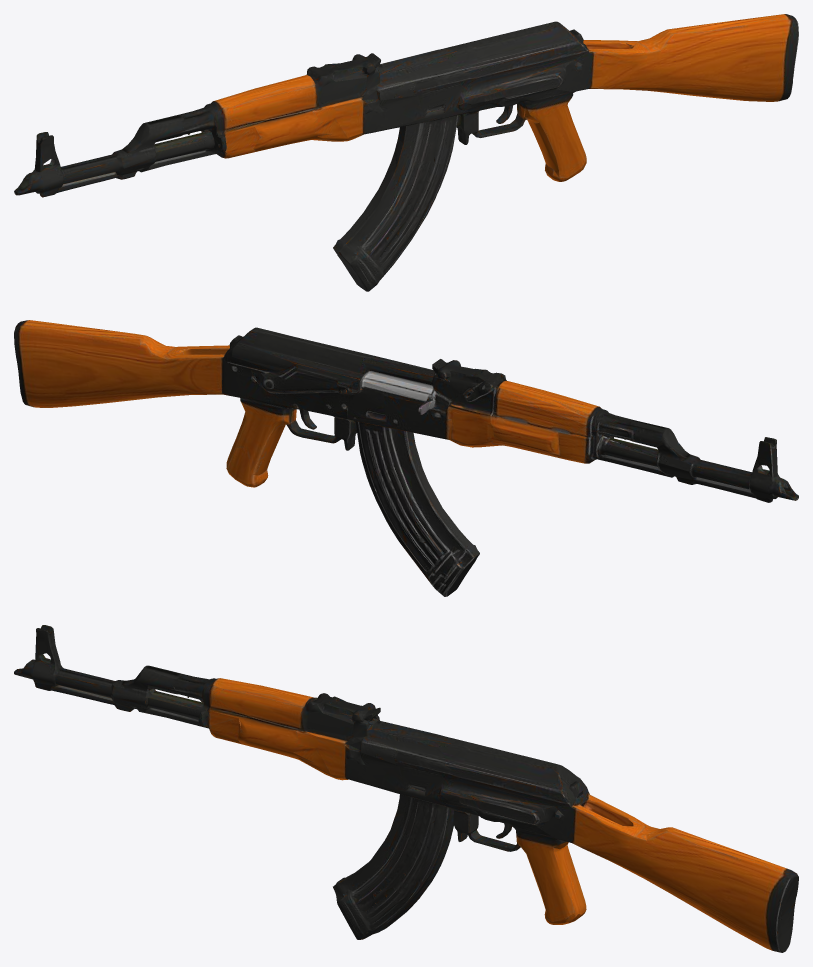
Rendered from w-akm.glb.
3 renders of one model, top to bottom at view 1: azimuth 30°, elevation 25°; view 2: azimuth 150°, elevation 25°; view 3: azimuth 330°, elevation 25°, orthographic.
Size of the model in its own units: 1.9 by 0.5414 by 0.1396.
Materials: 1 (1 with a texture image).
